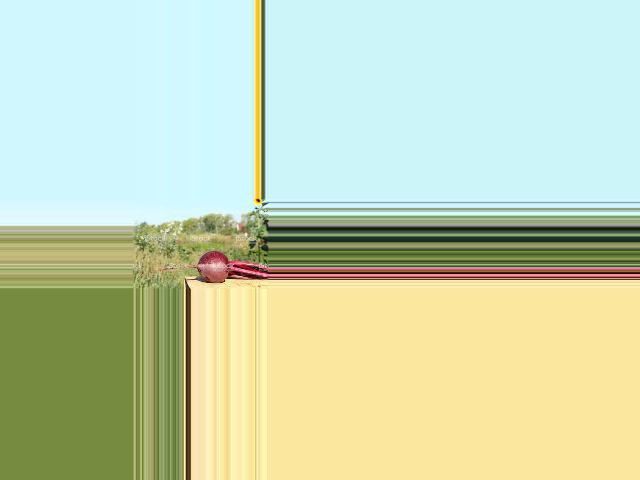beet: (137, 251, 269, 283)
